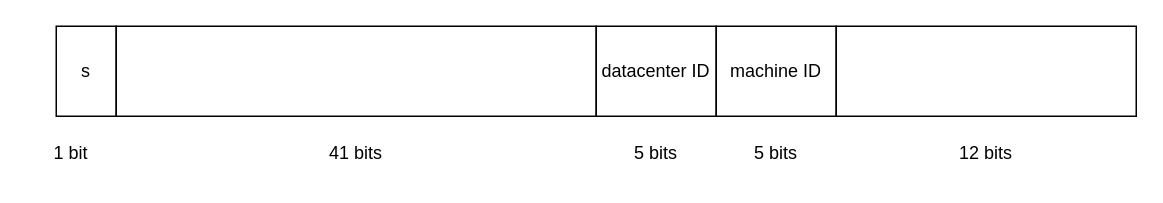
The diagram is 1163 pixels wide and 203 high, and some of its shapes have lost their labels. Each missing label, with the centre of its shape:
sequence number: [985,70]
timestamp: [355,70]
